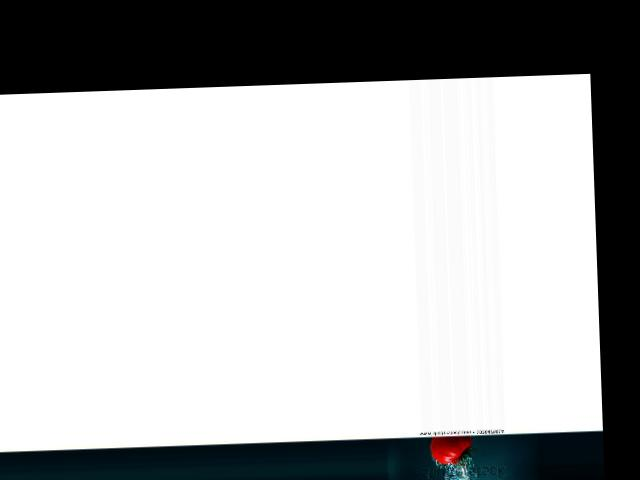tomato: (430, 435, 473, 464)
